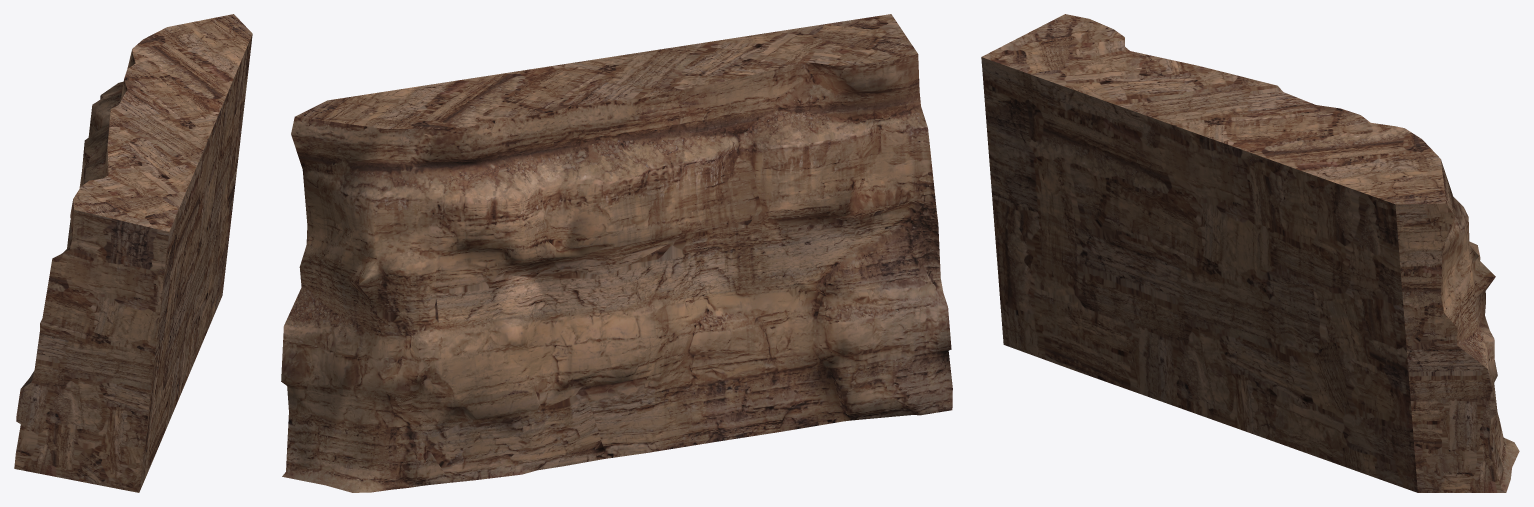
Rendered from Mesh_Cliff_Corner_03_AU.fbx.
3 renders of one model, left to right at view 1: azimuth 30°, elevation 25°; view 2: azimuth 150°, elevation 25°; view 3: azimuth 270°, elevation 25°, orthographic. The views are drawn at different scales.
Visible parts, largest first — view 1: Mesh_Cliff_Corner_03_AU; view 2: Mesh_Cliff_Corner_03_AU; view 3: Mesh_Cliff_Corner_03_AU.
Part boxes in pixels (x1,y1,x2,y2): Mesh_Cliff_Corner_03_AU: (14,14,252,492); Mesh_Cliff_Corner_03_AU: (281,14,952,492); Mesh_Cliff_Corner_03_AU: (981,14,1519,492).
Size of the model in its own units: 7277 by 5139 by 8048.
